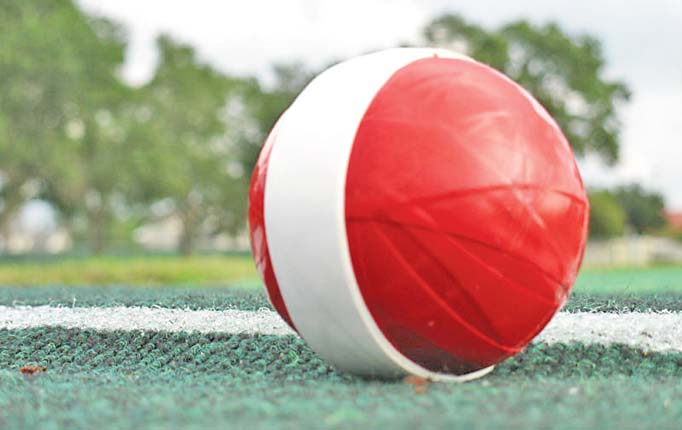red ball: (249, 48, 591, 383)
